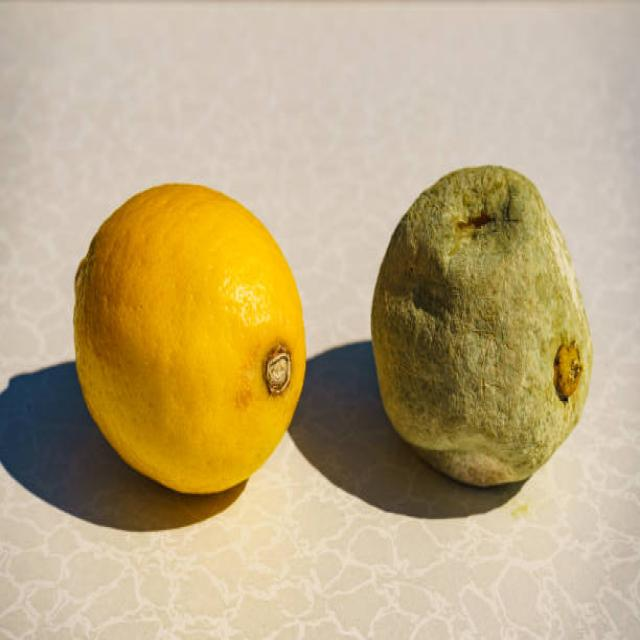Ripe: (71, 181, 306, 496)
Rotten: (368, 161, 592, 488)
